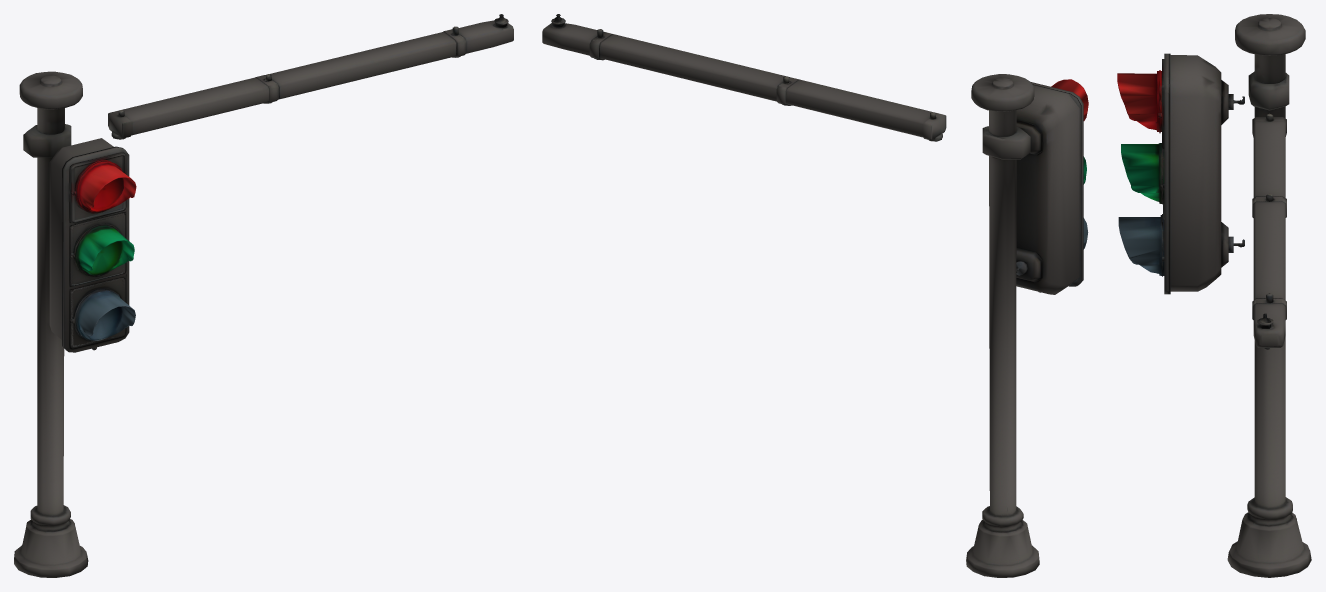
File: traffic_light.glb
3 views of the same model, side by side, from view 1: azimuth 30°, elevation 25°; view 2: azimuth 150°, elevation 25°; view 3: azimuth 270°, elevation 25° (orthographic). The views are drawn at different scales.
Parts seen in each view (by area): view 1: tripo_node_796b5534-b8b5-41c7-9a60-7e527c90de2c; view 2: tripo_node_796b5534-b8b5-41c7-9a60-7e527c90de2c; view 3: tripo_node_796b5534-b8b5-41c7-9a60-7e527c90de2c.
Boxes of the visible parts, box(x1,y1,x2,y2) form: tripo_node_796b5534-b8b5-41c7-9a60-7e527c90de2c: box(14, 14, 513, 577); tripo_node_796b5534-b8b5-41c7-9a60-7e527c90de2c: box(542, 14, 1088, 577); tripo_node_796b5534-b8b5-41c7-9a60-7e527c90de2c: box(1117, 14, 1311, 577).
Size of the model in its own units: 4 by 3.75 by 1.23.
Materials: 1 (1 with a texture image).
